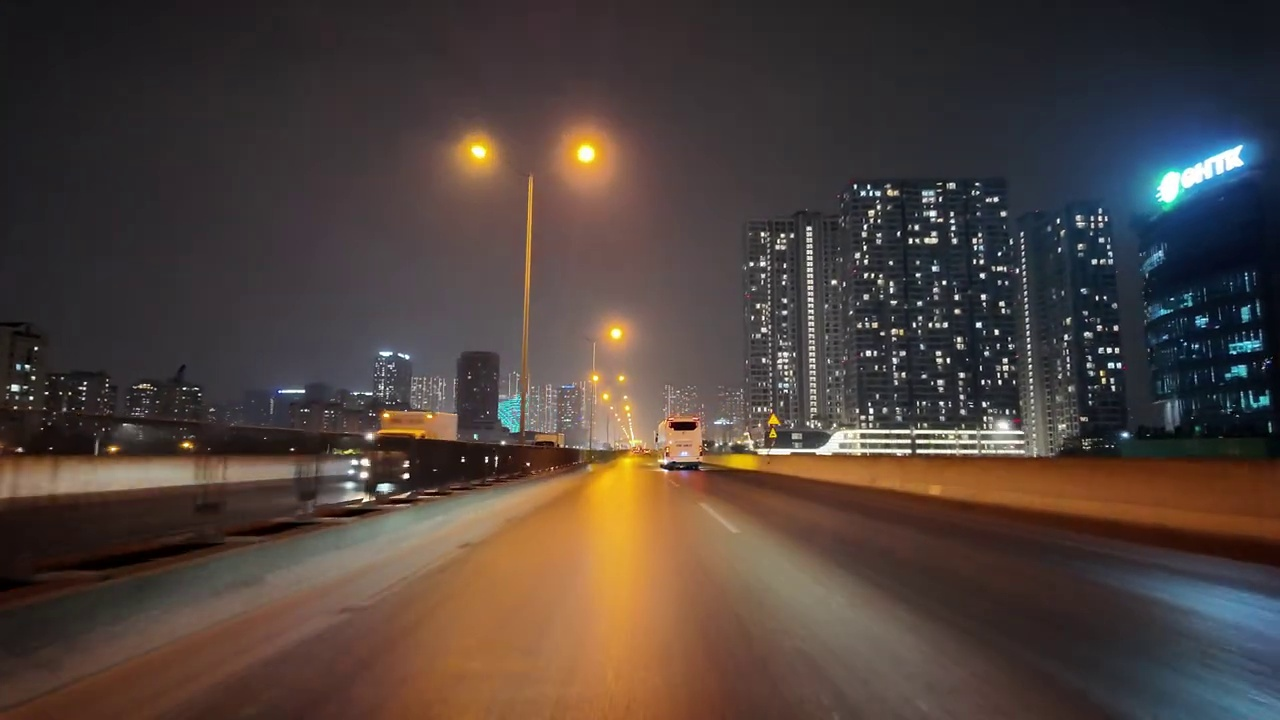acesa: (566, 135, 606, 175), (461, 135, 498, 172), (601, 319, 630, 348)
